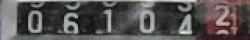digits: (93, 6, 127, 37), (27, 8, 42, 32), (137, 10, 154, 31), (63, 11, 78, 33), (214, 4, 230, 24), (177, 13, 192, 33)
